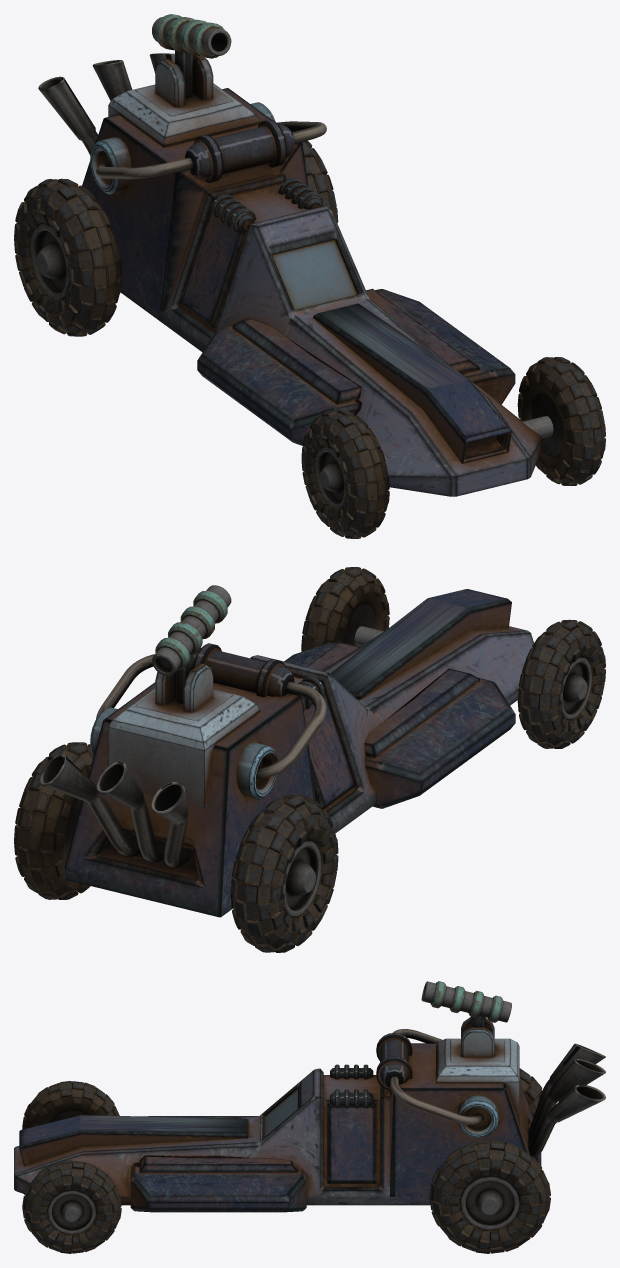
The model's file is Drag Car Mk1.fbx.
The picture shows the model from 3 angles, top to bottom: view 1: azimuth 30°, elevation 25°; view 2: azimuth 150°, elevation 25°; view 3: azimuth 270°, elevation 25°; orthographic projection. The views are drawn at different scales.
Parts seen in each view (by area): view 1: Drag_Car_Main, R_R_Wheel, F_R_Wheel, F_L_Wheel, Drag_car_cannon, R_L_Wheel; view 2: Drag_Car_Main, R_R_Wheel, F_R_Wheel, R_L_Wheel, F_L_Wheel, Drag_car_cannon; view 3: Drag_Car_Main, R_L_Wheel, F_L_Wheel, F_R_Wheel, Drag_car_cannon, R_R_Wheel.
Part boxes in pixels (x1,y1,x2,y2): Drag_Car_Main: (38, 50, 553, 496); R_R_Wheel: (14, 178, 121, 336); F_R_Wheel: (301, 409, 389, 538); F_L_Wheel: (517, 357, 605, 485); Drag_car_cannon: (152, 14, 231, 58); R_L_Wheel: (302, 140, 338, 222); Drag_Car_Main: (39, 589, 533, 917); R_R_Wheel: (230, 795, 338, 952); F_R_Wheel: (517, 619, 605, 748); R_L_Wheel: (14, 742, 93, 899); F_L_Wheel: (301, 567, 389, 651); Drag_car_cannon: (152, 585, 231, 675); Drag_Car_Main: (14, 1015, 605, 1212); R_L_Wheel: (429, 1139, 550, 1253); F_L_Wheel: (22, 1160, 121, 1253); F_R_Wheel: (22, 1081, 119, 1129); Drag_car_cannon: (421, 981, 511, 1022); R_R_Wheel: (519, 1068, 542, 1117).
Size of the model in its own units: 557 by 607 by 1415.
